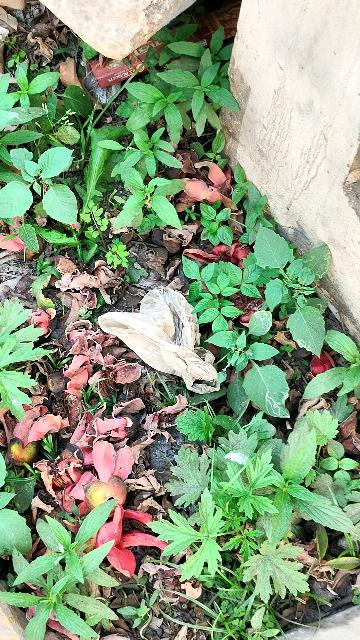packet: (109, 295, 225, 392)
